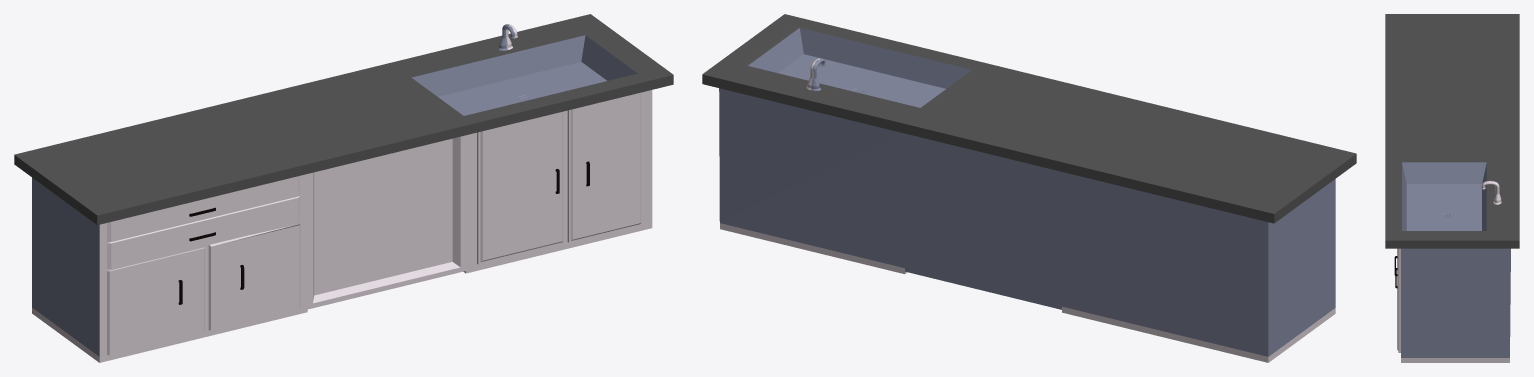
Rendered from Wastafel.fbx.
The picture shows the model from 3 angles, left to right: view 1: azimuth 30°, elevation 25°; view 2: azimuth 150°, elevation 25°; view 3: azimuth 270°, elevation 25°; orthographic projection. The views are drawn at different scales.
Visible parts, largest first — view 1: LemariDenganWastafel; view 2: LemariDenganWastafel; view 3: LemariDenganWastafel.
Boxes of the visible parts, bbox=[...] form: LemariDenganWastafel: bbox=[14, 14, 673, 362]; LemariDenganWastafel: bbox=[702, 14, 1356, 362]; LemariDenganWastafel: bbox=[1385, 14, 1519, 362].
Size of the model in its own units: 280 by 85 by 70.
